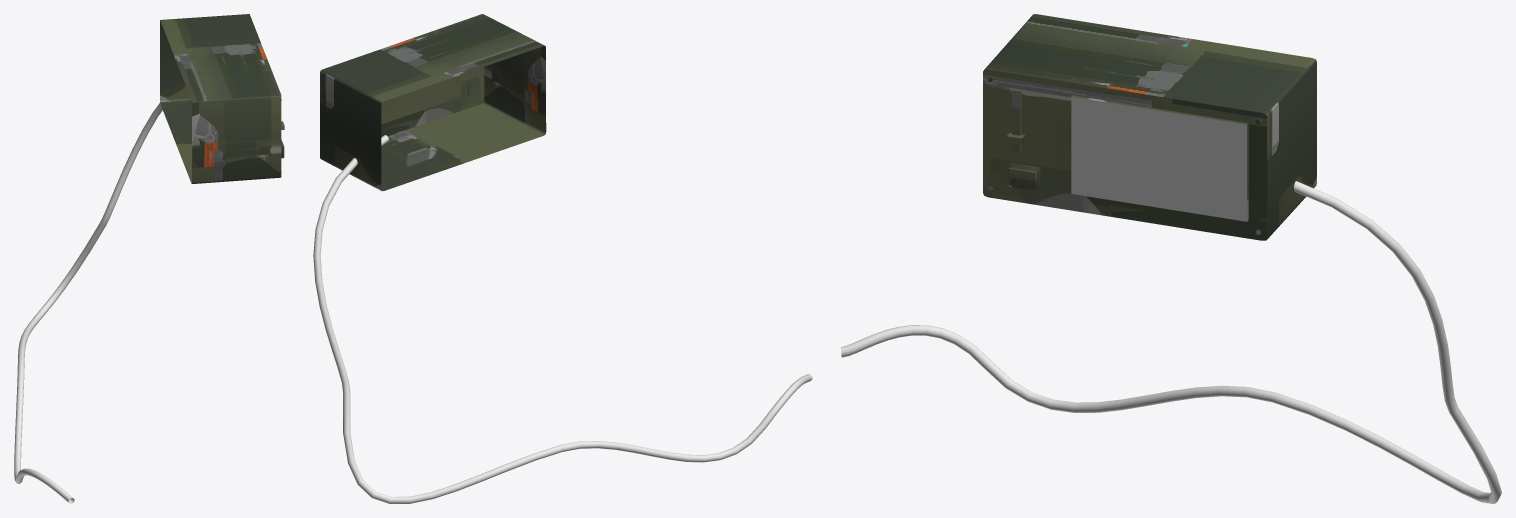
The model's file is HistoricalDataUnit_01.fbx.
3 renders of one model, left to right at view 1: azimuth 30°, elevation 25°; view 2: azimuth 150°, elevation 25°; view 3: azimuth 270°, elevation 25°, orthographic. The views are drawn at different scales.
Visible parts, largest first — view 1: histData_mod_v1, histData_cord_v1; view 2: histData_mod_v1, histData_cord_v1; view 3: histData_mod_v1, histData_cord_v1.
Part boxes in pixels (left/top/right/bottom): histData_mod_v1: left=160, top=14, right=281, bottom=183; histData_cord_v1: left=14, top=103, right=162, bottom=503; histData_mod_v1: left=320, top=14, right=546, bottom=191; histData_cord_v1: left=313, top=135, right=812, bottom=503; histData_mod_v1: left=983, top=14, right=1316, bottom=240; histData_cord_v1: left=841, top=181, right=1501, bottom=503.
Size of the model in its own units: 4.38 by 4.32 by 4.95.
